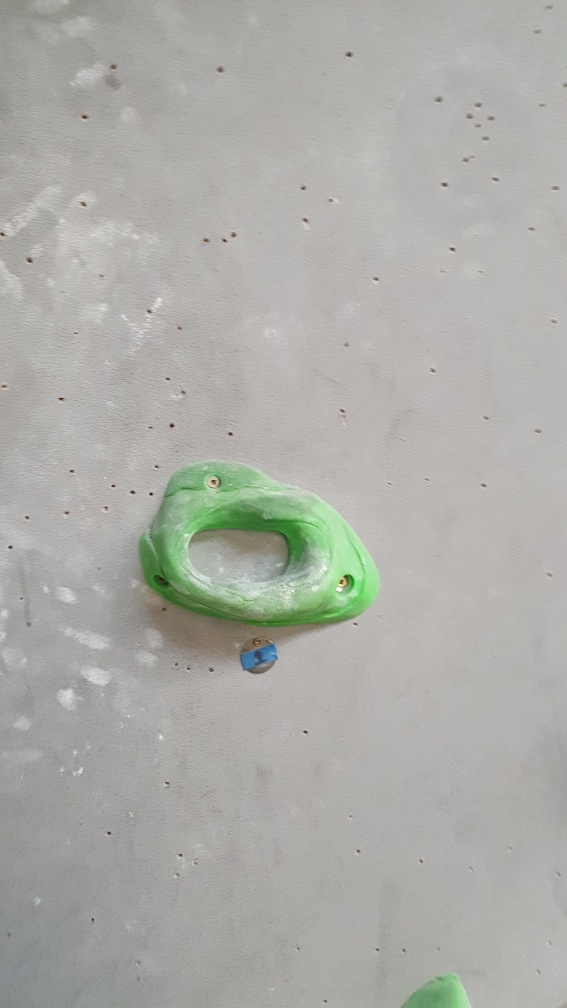Hand Start: (233, 634, 280, 682)
Pocket: (139, 455, 384, 632)
